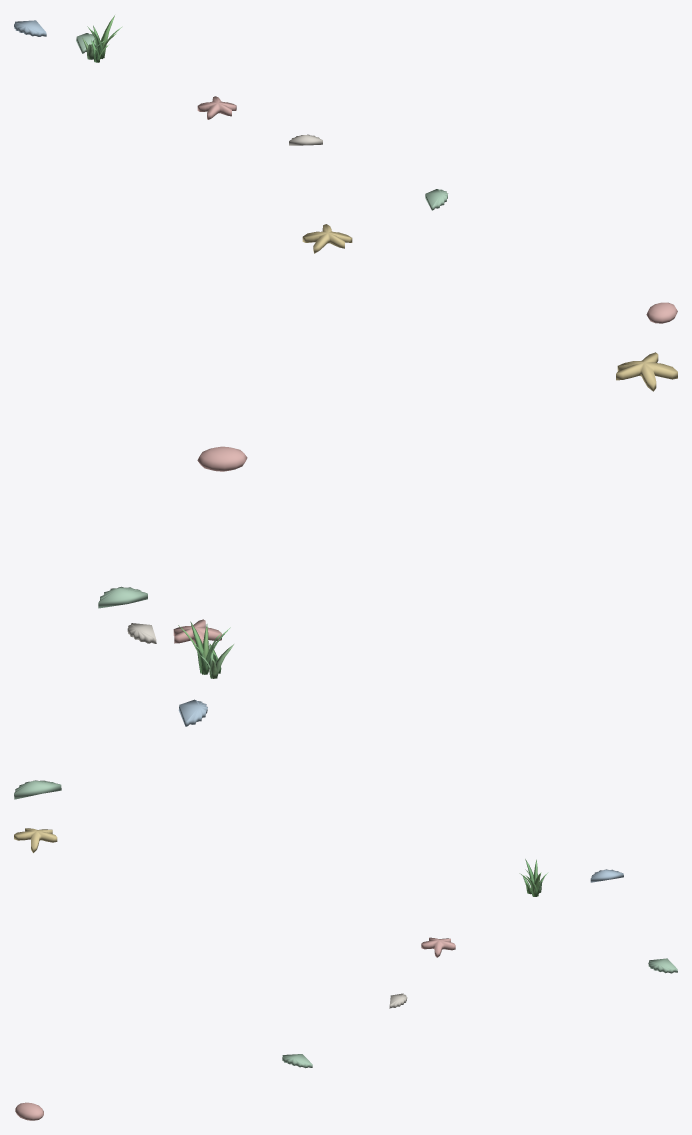
Rendered from W2_FloraRing_7_8.fbx.
3 renders of one model, top to bottom at view 1: azimuth 30°, elevation 25°; view 2: azimuth 150°, elevation 25°; view 3: azimuth 270°, elevation 25°, orthographic. The views are drawn at different scales.
Visible parts, largest first — view 1: W2_FloraRing_7_8; view 2: W2_FloraRing_7_8; view 3: W2_FloraRing_7_8.
Boxes of the visible parts, x1,y1,x2,y2 form: W2_FloraRing_7_8: (14,15,677,323); W2_FloraRing_7_8: (14,352,677,799); W2_FloraRing_7_8: (14,828,677,1120).
Bounding box in the file's own units: 1.36 × 0.5891 × 2.43.
